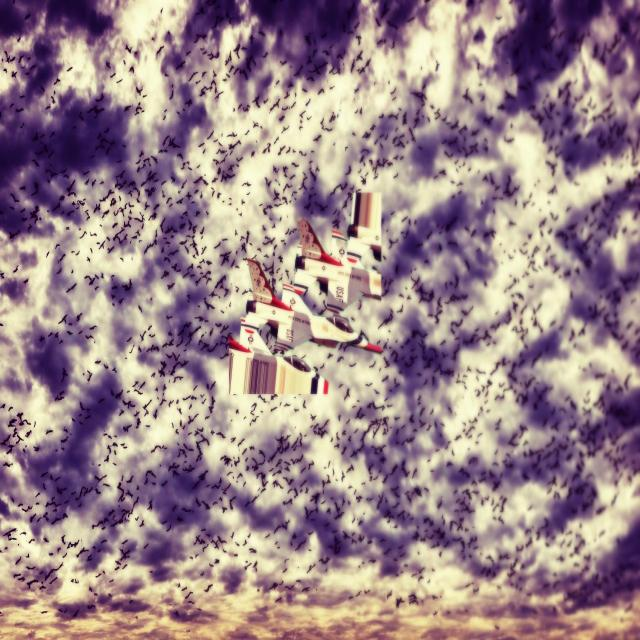airplane: (240, 256, 383, 356), (297, 220, 382, 304), (226, 328, 329, 396)
